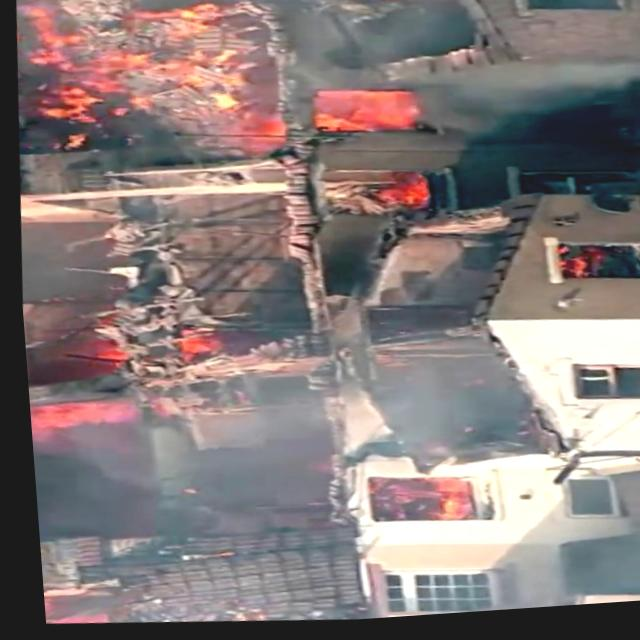fire: (9, 0, 282, 173), (313, 88, 422, 139)
